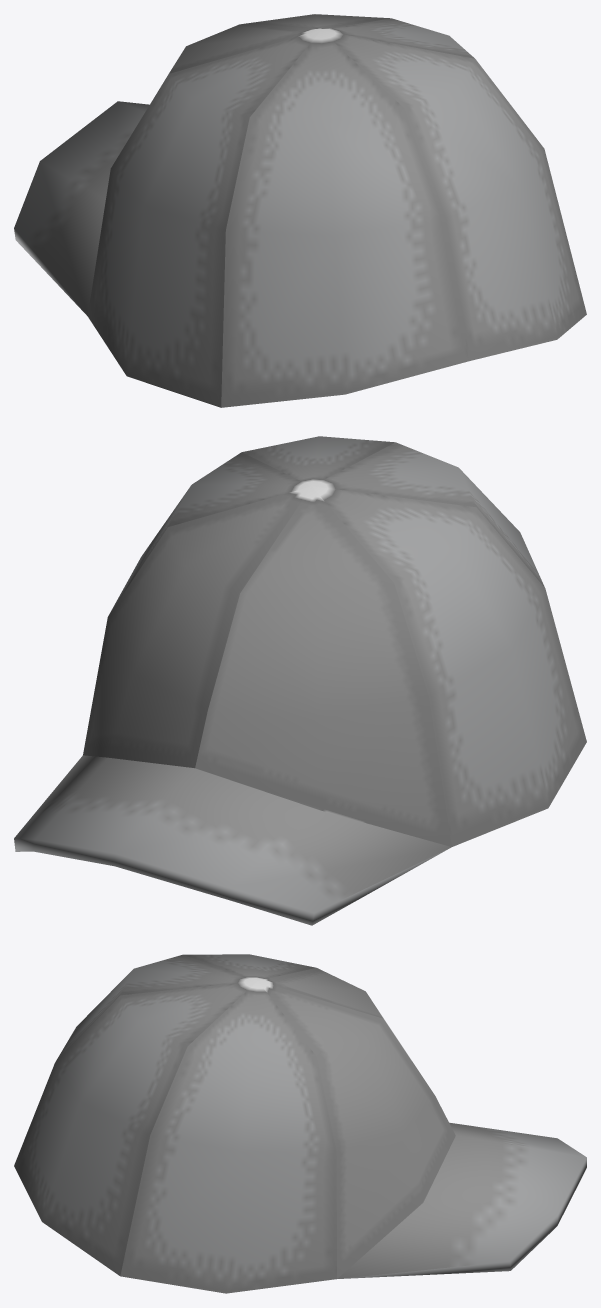
Rendered from GorraWorldObject.fbx.
The picture shows the model from 3 angles, top to bottom: view 1: azimuth 30°, elevation 25°; view 2: azimuth 150°, elevation 25°; view 3: azimuth 270°, elevation 25°; orthographic projection. The views are drawn at different scales.
Parts seen in each view (by area): view 1: M_BaseballCap; view 2: M_BaseballCap; view 3: M_BaseballCap.
Boxes of the visible parts, x1=… form: M_BaseballCap: x1=14, y1=14, x2=586, y2=407; M_BaseballCap: x1=14, y1=436, x2=586, y2=925; M_BaseballCap: x1=14, y1=954, x2=586, y2=1293.
Bounding box in the file's own units: 0.1377 × 0.0891 × 0.1967.
